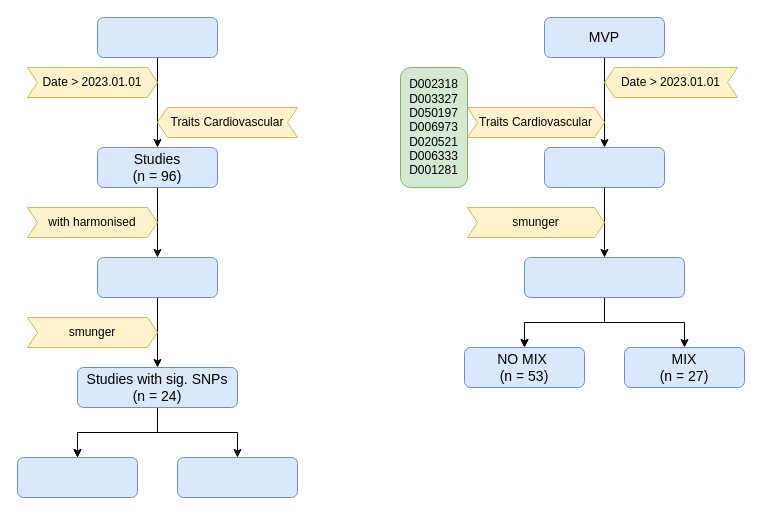
Some shapes in this 762 by 515 pixel diagram are drawn without their labels. Each missing label, with the centre of its shape:
GWAS Catalog: [157,37]
MIX (n = 5): [237,477]
NO MIX (n = 19): [77,477]
Studies (n = 106): [604,167]
Studies (n = 34): [157,277]
Studies with sig. SNPs (n = 80): [604,277]
